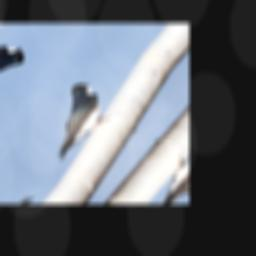Swallow: (29, 78, 123, 168)
